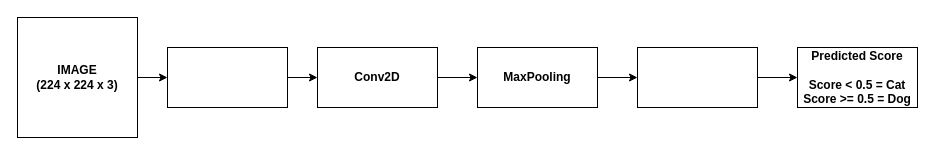
This 935x155 diagram has some shape labels left out. Each missing label, with the box of its shape:
Flatten: (636, 46, 758, 108)
MobNetV2: (166, 46, 288, 108)
